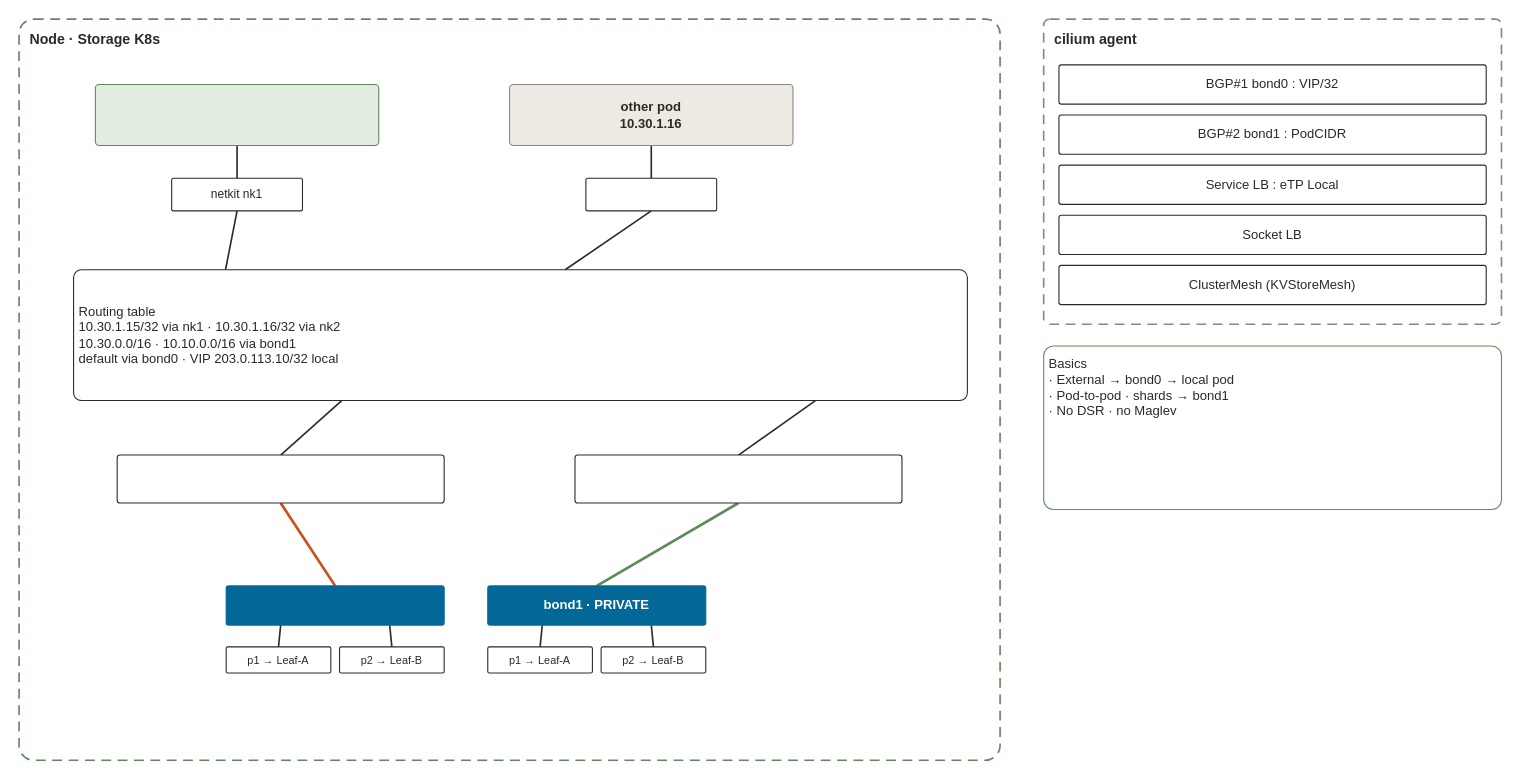
The diagram is 1522 pixels wide and 780 high, and some of its shapes have lost their labels. The centre of each missing label's shape, as x and y in pixels:
"AIStor pod 10.30.1.15" goes at (236,114).
"bond0 · PUBLIC" goes at (334,605).
"eBPF host routing" goes at (738,478).
"eBPF LB (XDP · tc)" goes at (280,478).
"netkit nk2" goes at (651,194).
